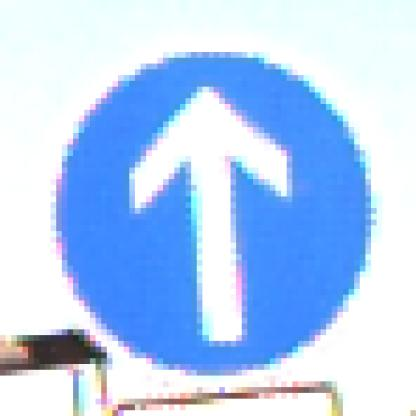AheadOnly: (41, 42, 384, 383)
